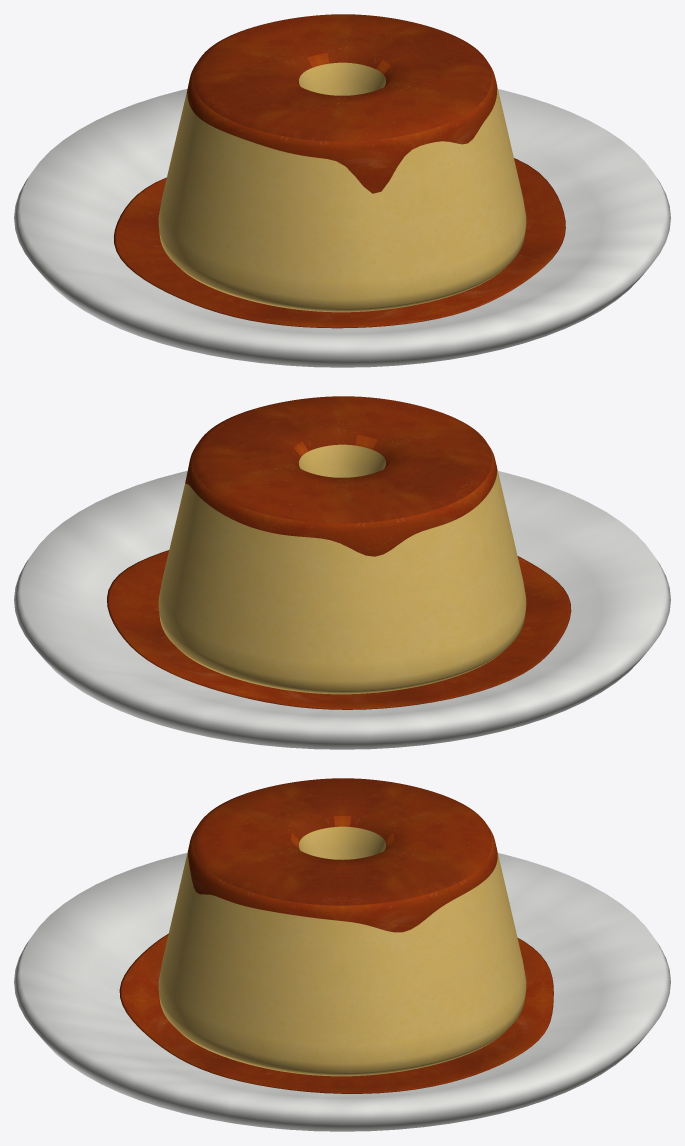
Rendered from pudim-de-leite.glb.
The picture shows the model from 3 angles, top to bottom: view 1: azimuth 30°, elevation 25°; view 2: azimuth 150°, elevation 25°; view 3: azimuth 270°, elevation 25°; orthographic projection.
Parts seen in each view (by area): view 1: Prato007, Flan_de_leite_condensado, Espelho_de_caramelo; view 2: Prato007, Flan_de_leite_condensado, Espelho_de_caramelo; view 3: Prato007, Flan_de_leite_condensado, Espelho_de_caramelo.
Part boxes in pixels (left/top/right/bottom): Prato007: left=14, top=89, right=670, bottom=367; Flan_de_leite_condensado: left=158, top=62, right=526, bottom=312; Espelho_de_caramelo: left=114, top=14, right=565, bottom=328; Prato007: left=14, top=471, right=670, bottom=749; Flan_de_leite_condensado: left=158, top=444, right=526, bottom=694; Espelho_de_caramelo: left=107, top=396, right=571, bottom=709; Prato007: left=14, top=853, right=670, bottom=1131; Flan_de_leite_condensado: left=158, top=826, right=526, bottom=1076; Espelho_de_caramelo: left=119, top=778, right=553, bottom=1093.
Size of the model in its own units: 0.18 by 0.057 by 0.18.
3 materials, 2 textured.
